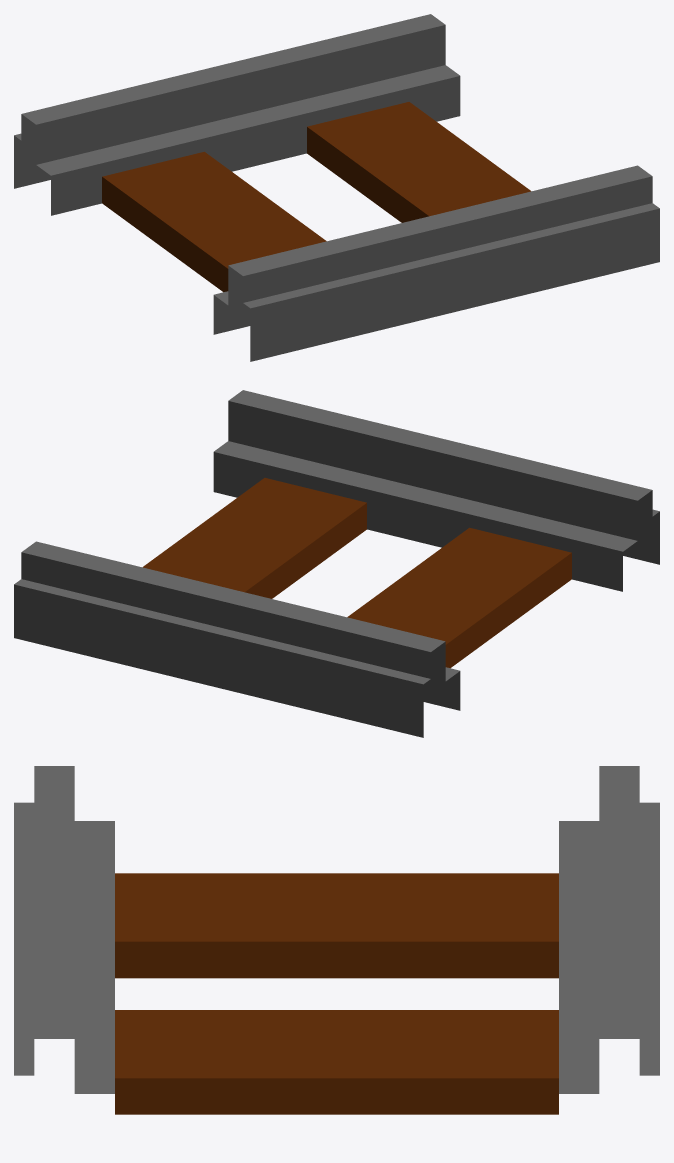
Rendered from trackstraight.obj.
The picture shows the model from 3 angles, top to bottom: view 1: azimuth 30°, elevation 25°; view 2: azimuth 150°, elevation 25°; view 3: azimuth 270°, elevation 25°; orthographic projection. The views are drawn at different scales.
Visible parts, largest first — view 1: trackstraight_back; view 2: trackstraight_back; view 3: trackstraight_back.
Boxes of the visible parts, x1,y1,x2,y2 form: trackstraight_back: [14, 14, 659, 361]; trackstraight_back: [14, 390, 659, 737]; trackstraight_back: [14, 766, 659, 1114].
Bounding box in the file's own units: 1.28 × 0.24 × 1.28.
